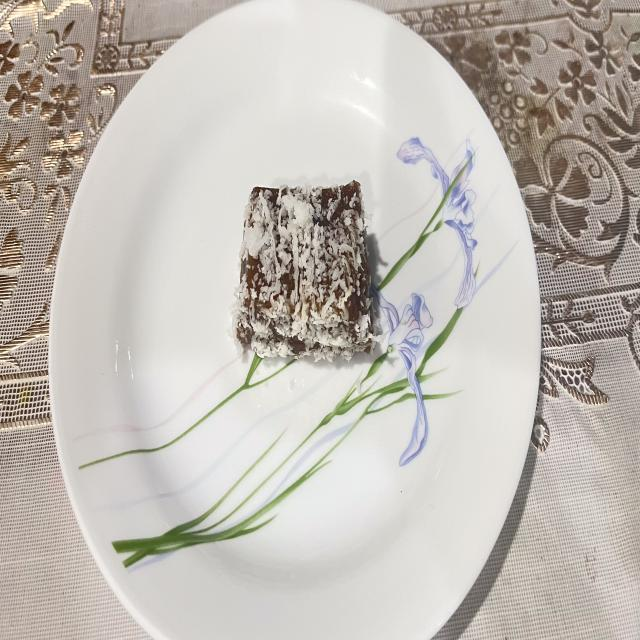kaswi: (235, 180, 379, 360)
